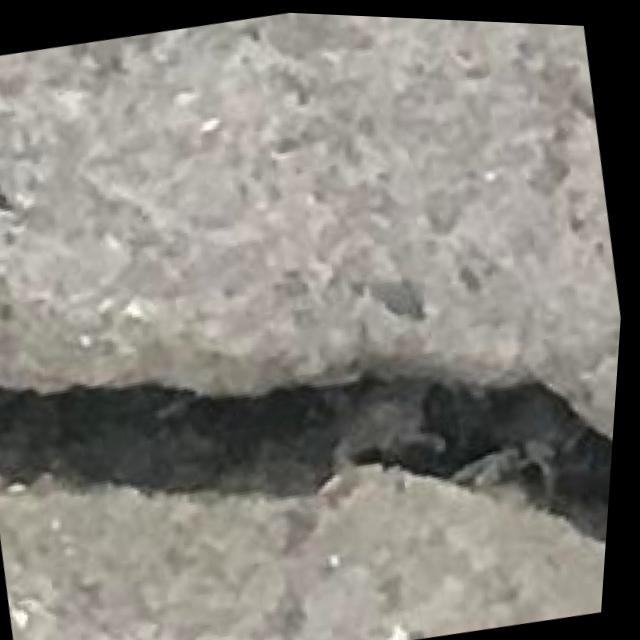Crack: (0, 224, 628, 640)
